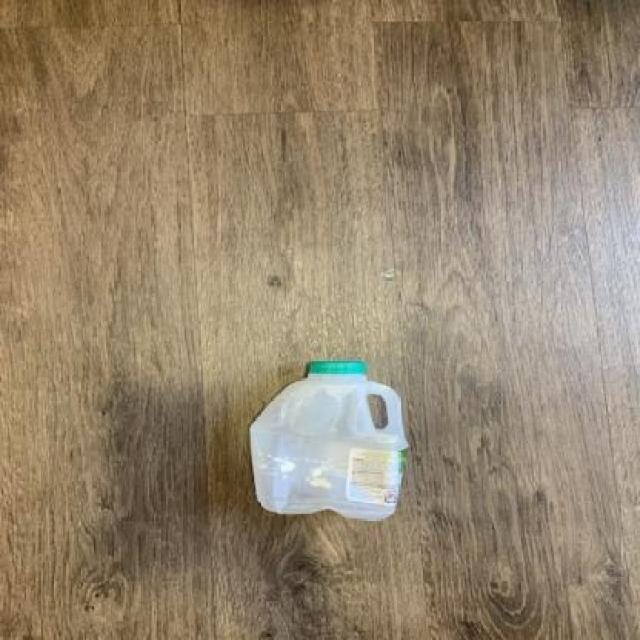trash: (248, 354, 420, 526)
